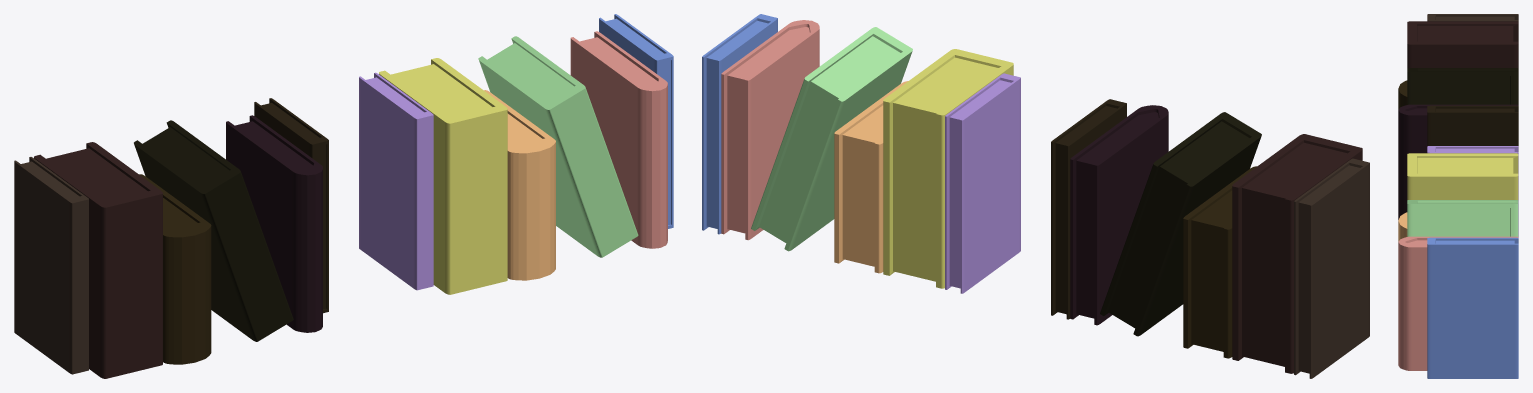
File: BOOK1.fbx
3 views of the same model, side by side, from view 1: azimuth 30°, elevation 25°; view 2: azimuth 150°, elevation 25°; view 3: azimuth 270°, elevation 25° (orthographic). The views are drawn at different scales.
Parts seen in each view (by area): view 1: book2, B_book2, B_book4, book4, B_book1, book1, book5, B_book5, book3, B_book3, book6, B_book6; view 2: book2, B_book2, book4, B_book4, B_book1, book1, book5, B_book5, book3, B_book3, book6, B_book6; view 3: book6, B_book2, book2, book5, B_book4, book4, B_book6, B_book5, B_book1, book1, B_book3, book3.
Boxes of the visible parts, x1,y1,x2,y2 form: book2: (379,58,507,294); B_book2: (34,142,162,378); B_book4: (134,120,293,341); book4: (478,36,638,257); B_book1: (14,157,88,374); book1: (359,72,433,290); book5: (570,31,667,248); B_book5: (226,115,322,332); book3: (484,90,555,280); B_book3: (139,174,211,364); book6: (599,14,673,228); B_book6: (254,98,328,313); book2: (883,49,1013,288); B_book2: (1232,134,1362,373); book4: (751,27,912,251); B_book4: (1100,112,1261,336); B_book1: (1294,158,1369,378); book1: (945,73,1020,293); book5: (721,20,819,240); B_book5: (1070,105,1168,325); book3: (834,81,908,273); B_book3: (1183,166,1256,358); book6: (702,14,777,234); B_book6: (1051,99,1126,319); book6: (1427,237,1518,378); B_book2: (1407,21,1518,68); book2: (1407,153,1518,199); book5: (1398,236,1518,370); B_book4: (1407,68,1518,104); book4: (1407,200,1518,236); B_book6: (1427,105,1518,146); B_book5: (1398,104,1518,219); B_book1: (1427,14,1518,105); book1: (1427,146,1518,237); B_book3: (1398,80,1407,109); book3: (1398,212,1407,241).
Size of the model in its own units: 147 by 40.81 by 32.44.
